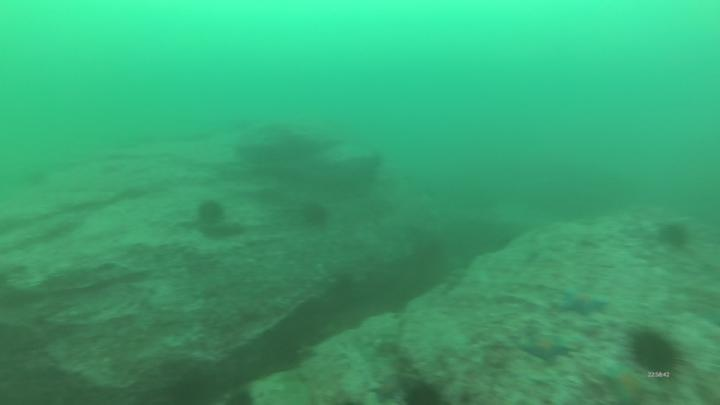echinus: (635, 337, 677, 378), (200, 202, 225, 221), (663, 226, 684, 248), (303, 204, 324, 221)
starfish: (522, 335, 566, 364), (563, 289, 606, 316), (373, 380, 398, 404)
